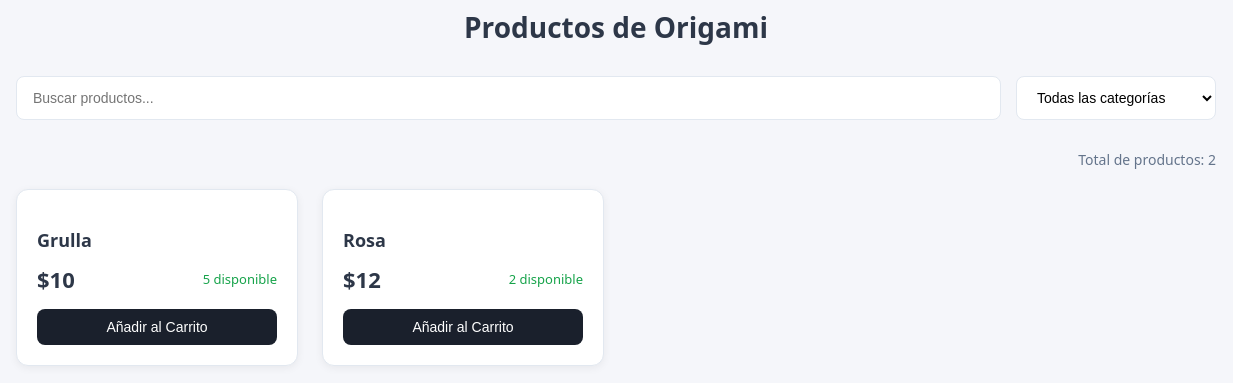
Test: ProductsPage / ProductListPage › renderiza productos y filtra por nombre
Expected: the text "Cargando productos" is shown, [16,189,604,366]
Expected: the heading "Grulla" is shown, [37,228,92,252]
Type "gru" into the field with placeholder "Buscar productos...". click: (508, 98)
box: [16,76,1001,120]
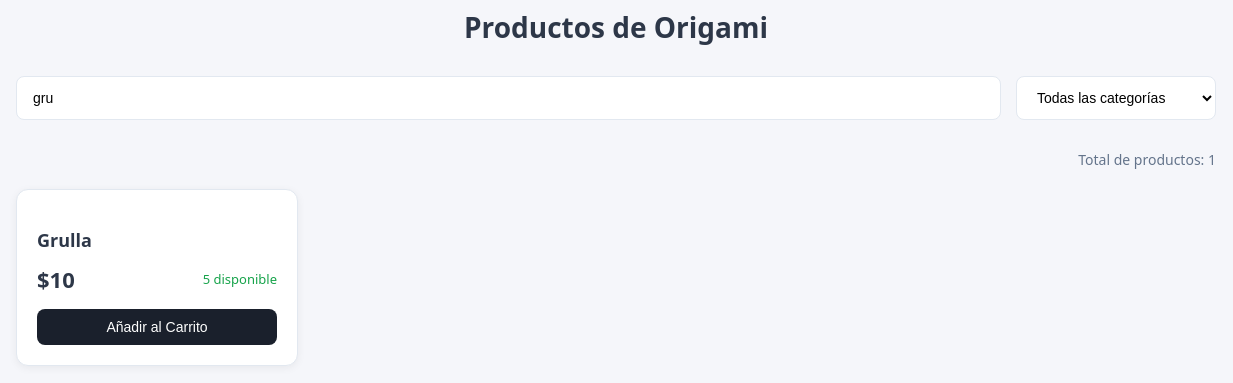
Expected: the heading "Grulla" is shown, [37,228,92,252]
Now the heading "Rosa" is gone
